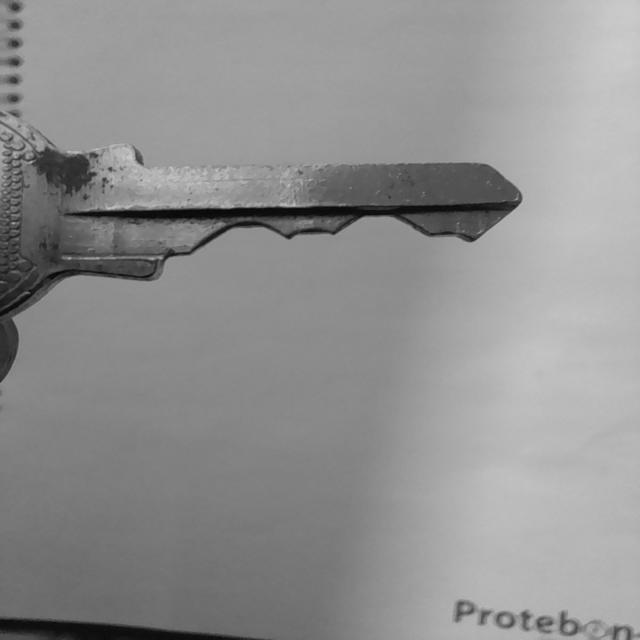key: (0, 113, 522, 320)
